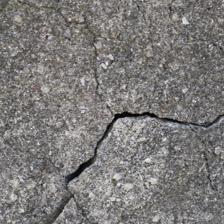Crack: (65, 106, 222, 190)
